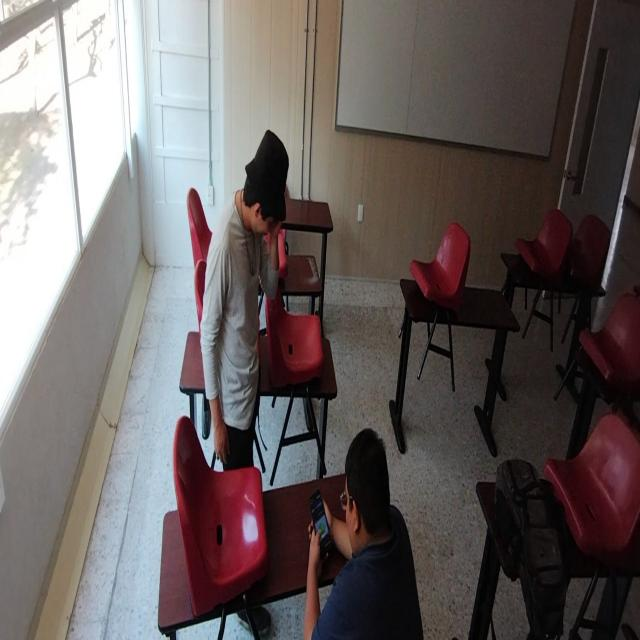adult: (203, 139, 287, 467), (305, 423, 421, 640)
